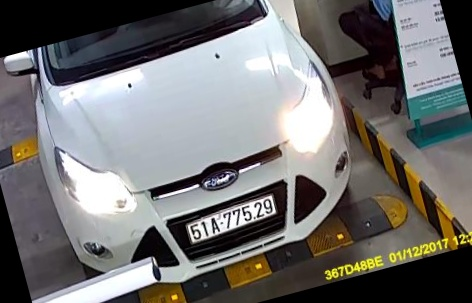plate: (180, 195, 285, 246)
